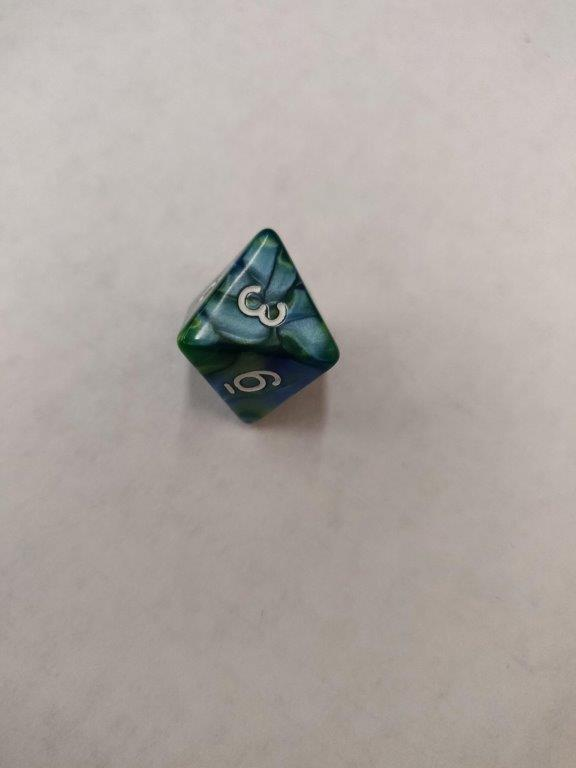d8-3: (173, 227, 344, 427)
